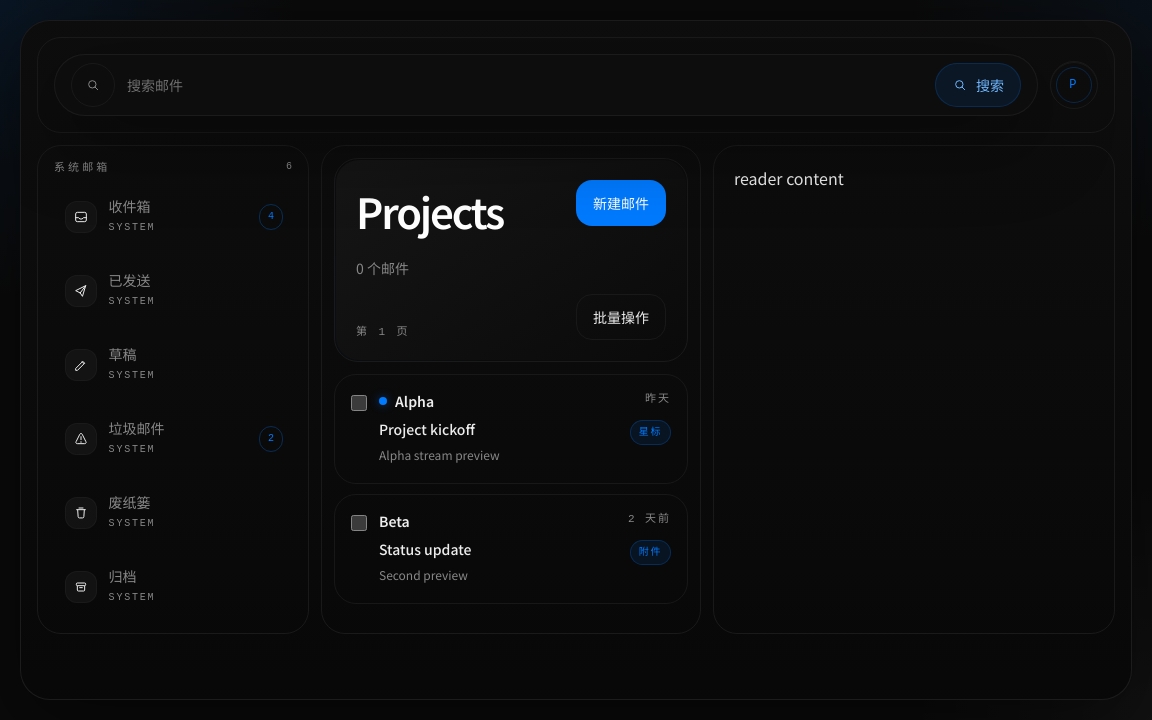
Test case: mailbox-shell › renders unread counters, active mailbox state, and stable selectors
Expected: the element with test id "thread-list" is shown, [321,145,701,634]
Expected: the element with test id "mailbox-sidebar" is shown, [37,145,309,634]
Step 1. Click the button with test id "account-chip-trigger" → (1074, 85), box [1050,61,1098,109]
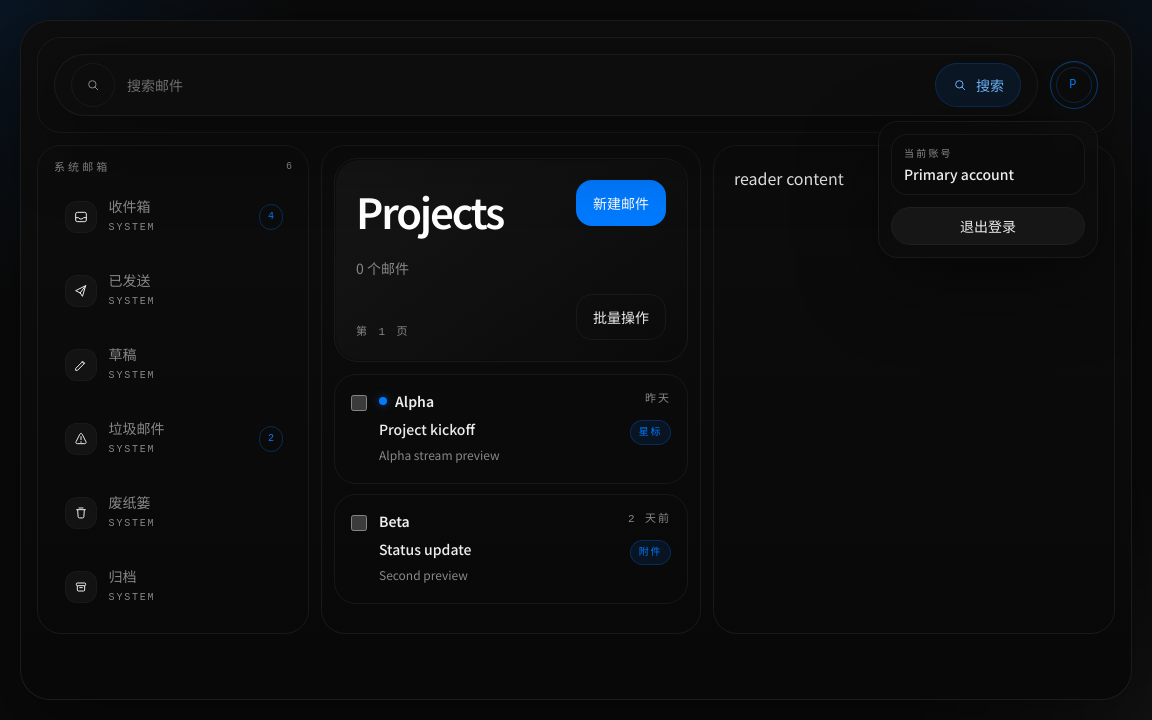
Now the button with test id "account-chip-trigger" is expanded, box [1050,61,1098,109]
Now the element with test id "account-chip-panel" is shown, box [878,121,1098,258]
Now the text "Primary account" is shown, box [904,164,1014,184]
